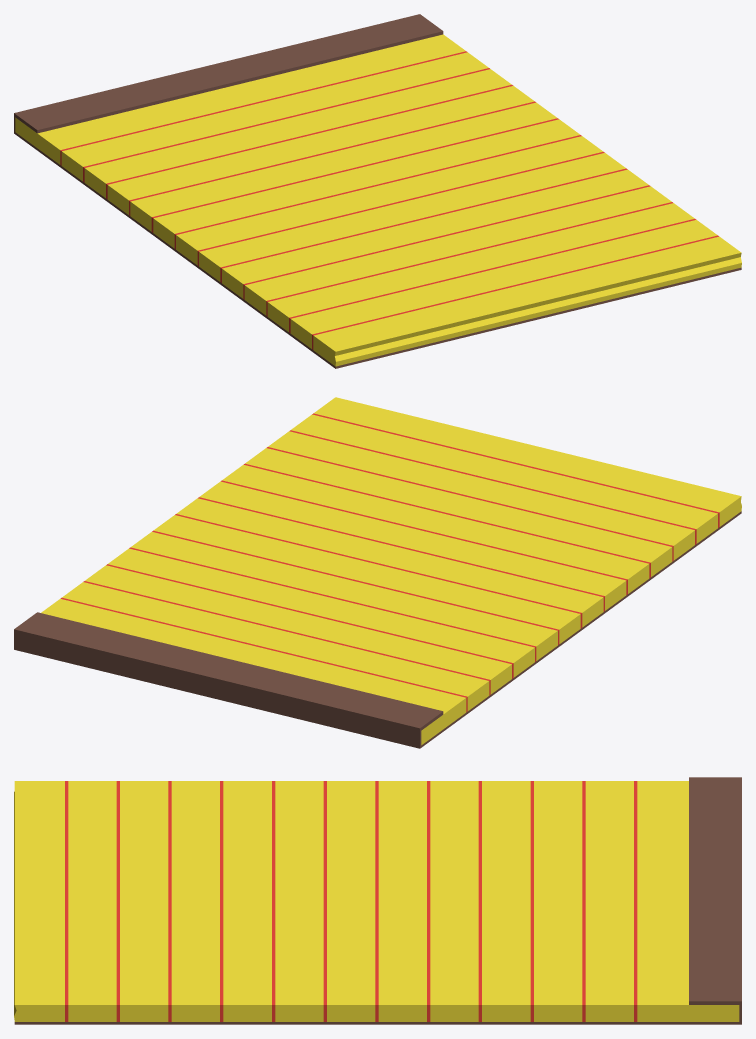
File: notebook.glb
3 renders of one model, top to bottom at view 1: azimuth 30°, elevation 25°; view 2: azimuth 150°, elevation 25°; view 3: azimuth 270°, elevation 25°, orthographic. The views are drawn at different scales.
Visible parts, largest first — view 1: notebook; view 2: notebook; view 3: notebook.
Part boxes in pixels (x1,y1,x2,y2): notebook: (14,14,741,368); notebook: (14,397,741,748); notebook: (14,777,741,1024).
Size of the model in its own units: 0.2184 by 0.0105 by 0.3.
